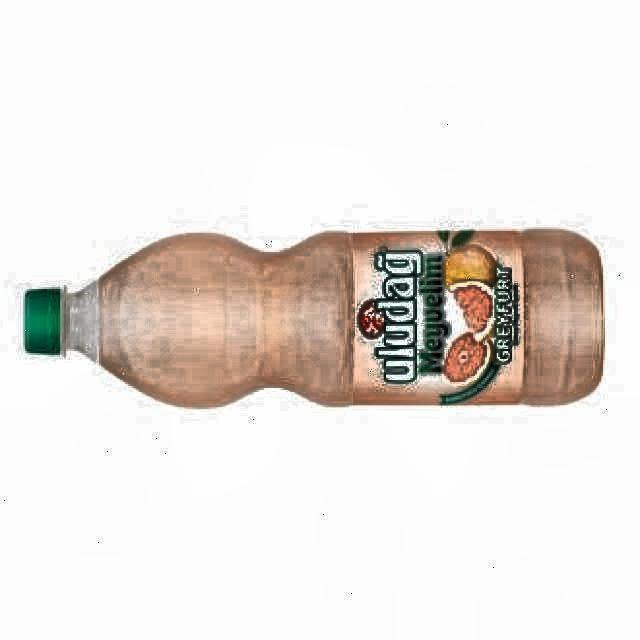plastic: (24, 230, 604, 406)
